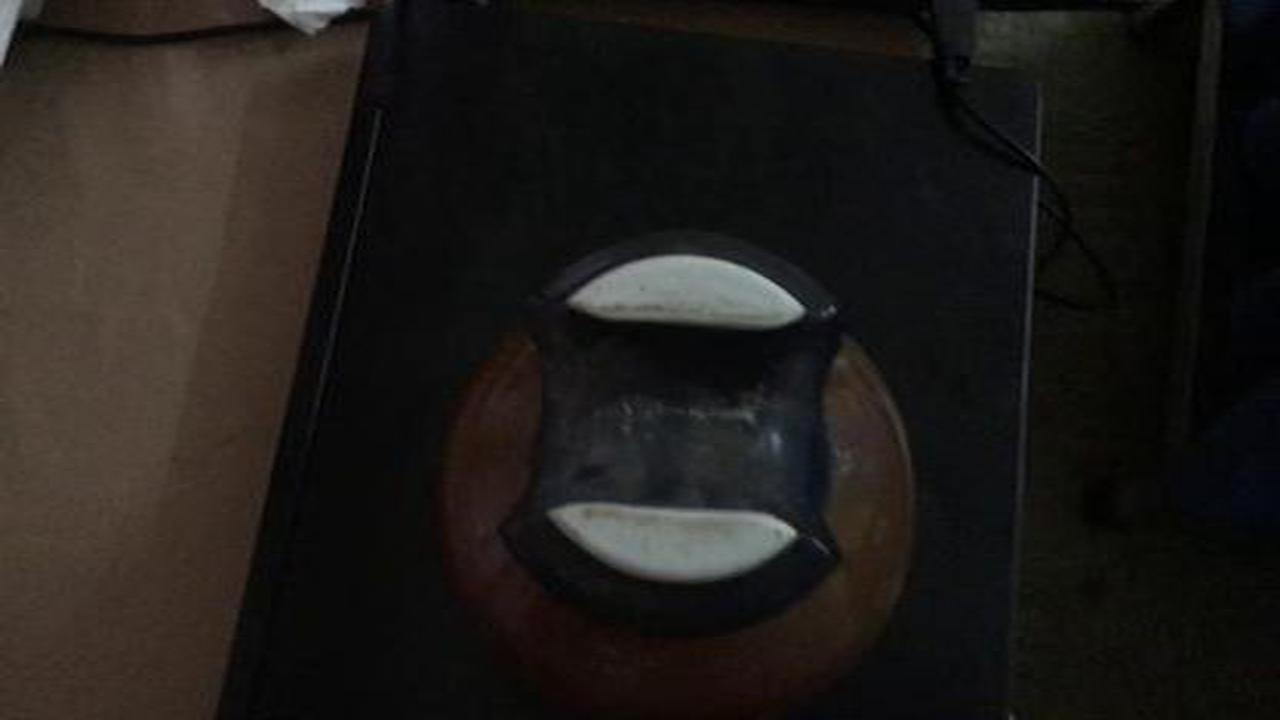insulator_pin: (410, 215, 948, 707)
